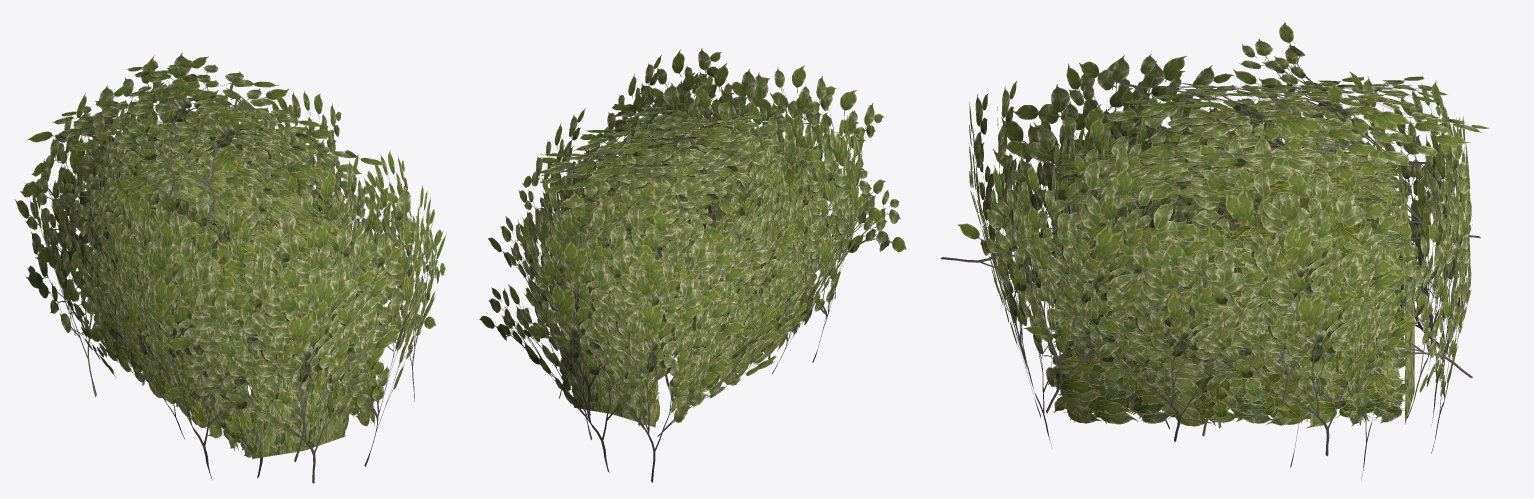
File: HH_Boxwood_Shrubs_2m.fbx
3 renders of one model, left to right at view 1: azimuth 30°, elevation 25°; view 2: azimuth 150°, elevation 25°; view 3: azimuth 270°, elevation 25°, orthographic. The views are drawn at different scales.
Parts seen in each view (by area): view 1: HH_Boxwood_Shrubs_2m_LOD0; view 2: HH_Boxwood_Shrubs_2m_LOD0; view 3: HH_Boxwood_Shrubs_2m_LOD0.
Boxes of the visible parts, bbox=[...] form: HH_Boxwood_Shrubs_2m_LOD0: bbox=[15, 52, 446, 483]; HH_Boxwood_Shrubs_2m_LOD0: bbox=[479, 48, 906, 482]; HH_Boxwood_Shrubs_2m_LOD0: bbox=[940, 22, 1489, 479].
Size of what is drawn, in the model's own units: 175 by 186 by 246.
